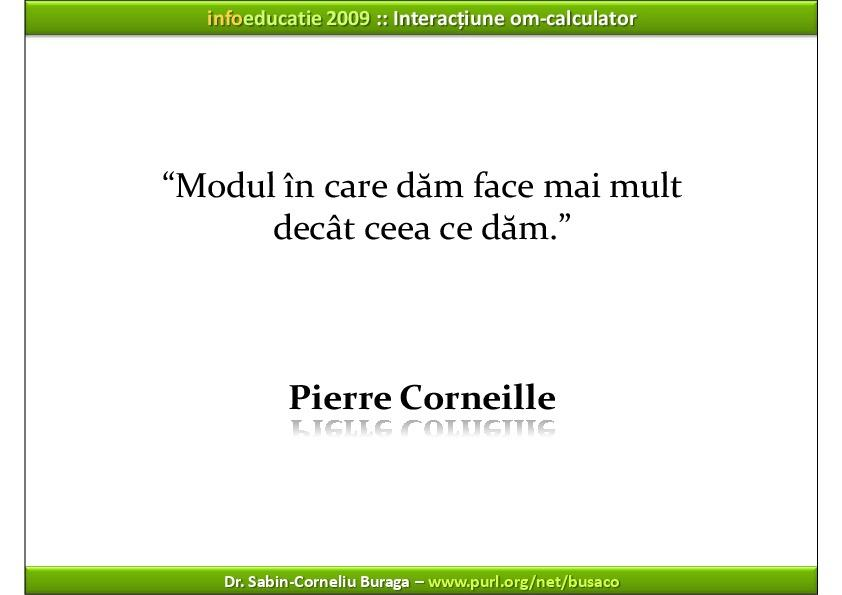subtitle: (154, 152, 739, 272), (258, 352, 615, 452)
title: (198, 2, 646, 40)
